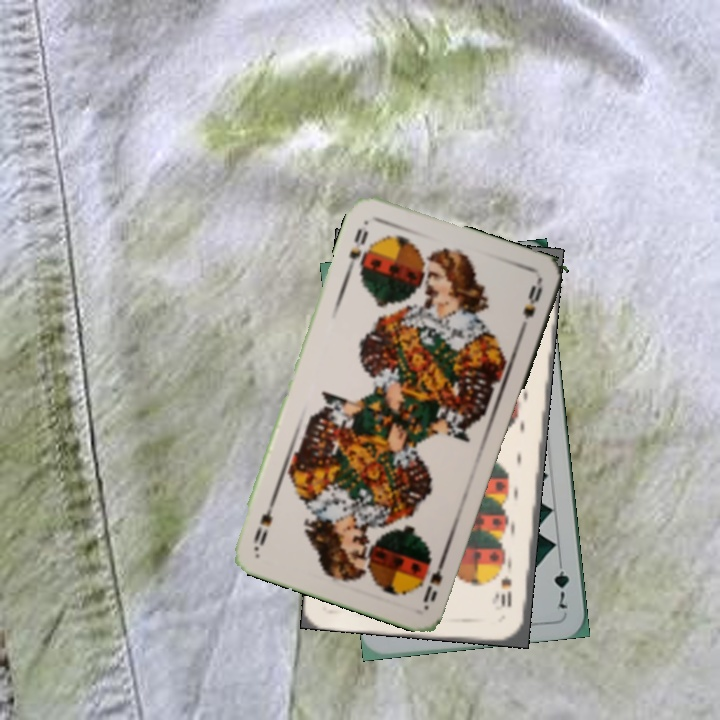G7: (550, 554, 572, 612)
S10: (496, 571, 515, 610)
SO: (419, 551, 449, 609), (343, 224, 371, 275)
